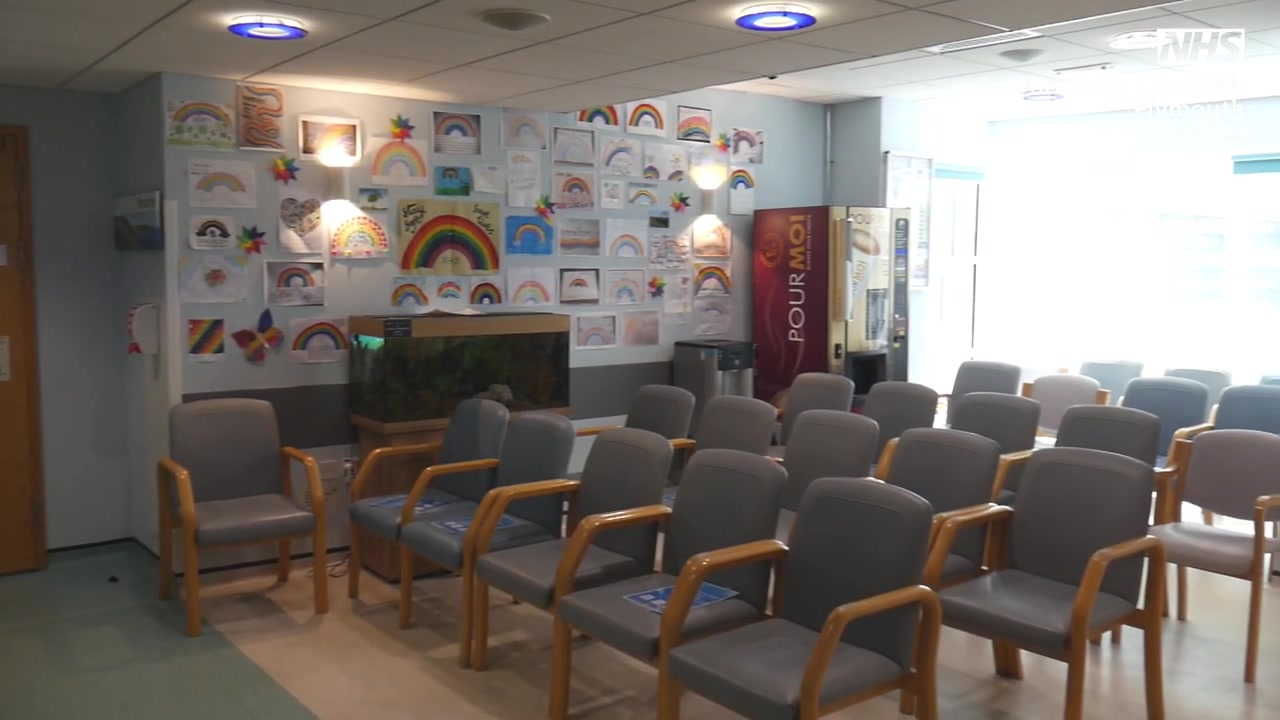chair: (659, 477, 941, 720), (922, 447, 1165, 720), (549, 449, 789, 720), (473, 427, 675, 720), (399, 411, 574, 668), (156, 397, 330, 637), (348, 399, 512, 630), (873, 427, 999, 715), (1154, 429, 1280, 683), (882, 392, 1041, 567), (999, 404, 1159, 523), (762, 409, 880, 568), (563, 385, 696, 502), (667, 395, 778, 535), (1102, 377, 1207, 491), (860, 381, 939, 477), (767, 373, 855, 459), (933, 362, 1027, 428), (1027, 373, 1103, 449), (1181, 386, 1280, 441), (1163, 369, 1230, 423), (1080, 361, 1143, 405)
counter: (349, 309, 570, 453)
dispenser: (124, 300, 159, 356)
